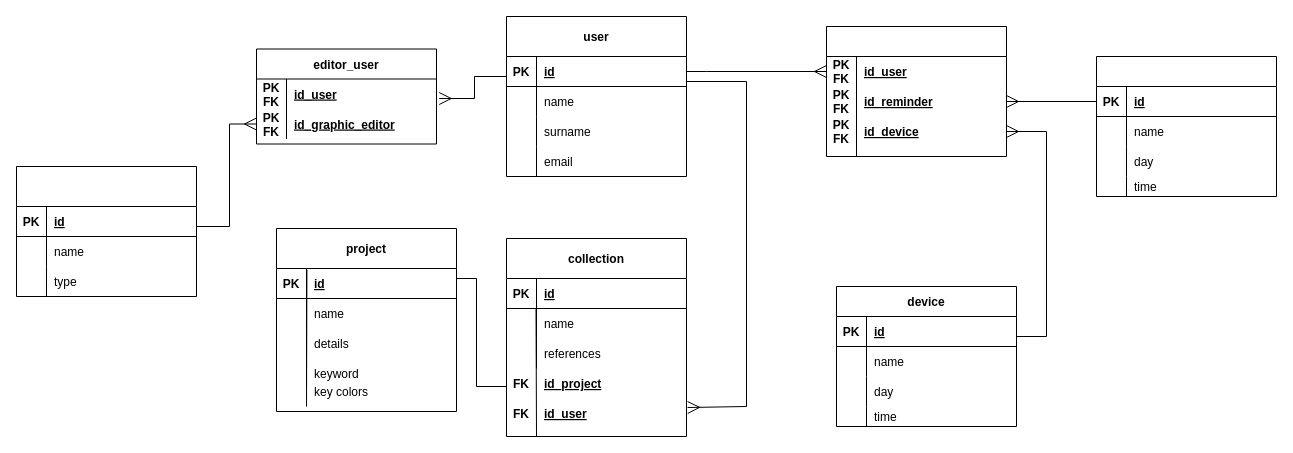
Some shapes in this 1293 by 453 pixel diagram are drawn without their labels. Each missing label, with the box of its shape:
graphic editor: (16, 166, 196, 296)
reminder: (1096, 56, 1276, 196)
shedule: (826, 26, 1006, 156)
